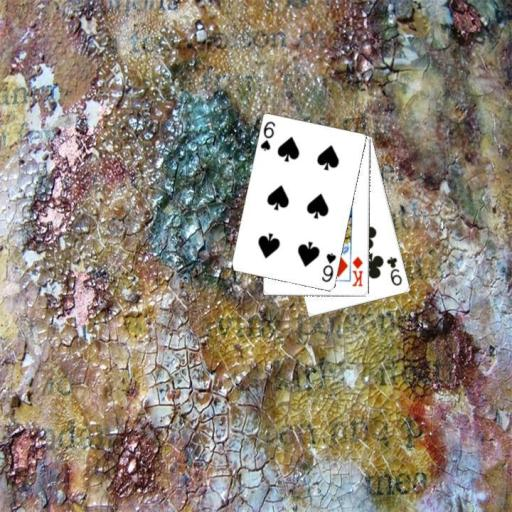6S: (319, 250, 338, 284), (258, 118, 277, 152)
9C: (384, 253, 404, 287)
KD: (349, 253, 364, 288)
